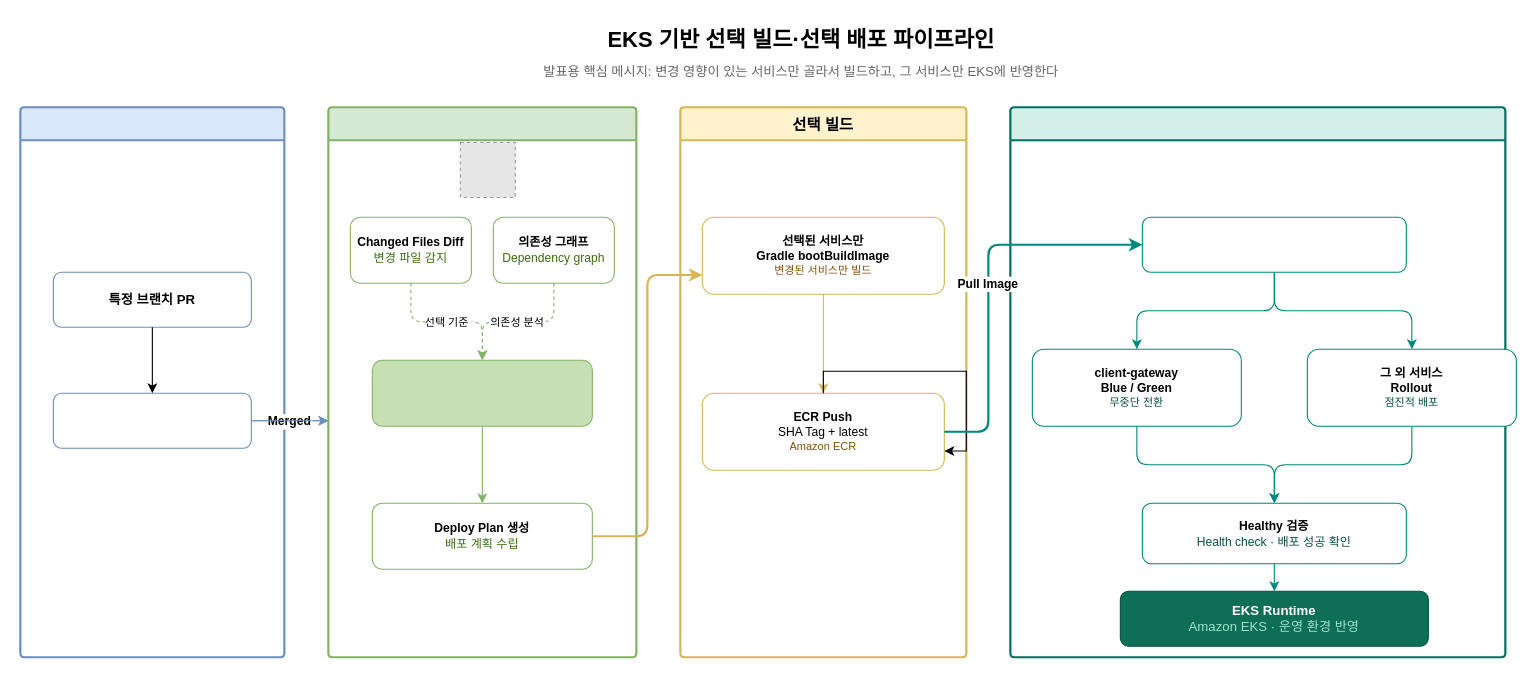
This 1536x677 diagram has some shape labels left out. Grey dashed boxes stand in for pictures. The shapes that lost their labels are listed below. From the top down, each one's box as (x1, y1, x2, y2) in pixels, then its label:
(1141, 216, 1406, 272): Helm으로 선택 release 반영
(19, 106, 285, 658): 소스코드
(371, 359, 592, 426): 의존성 그래프 기반 영향 서비스 선택
(327, 106, 637, 658): 영향 서비스 탐색
(1009, 106, 1506, 658): 선택 배포
(52, 392, 251, 448): 자동 테스트
